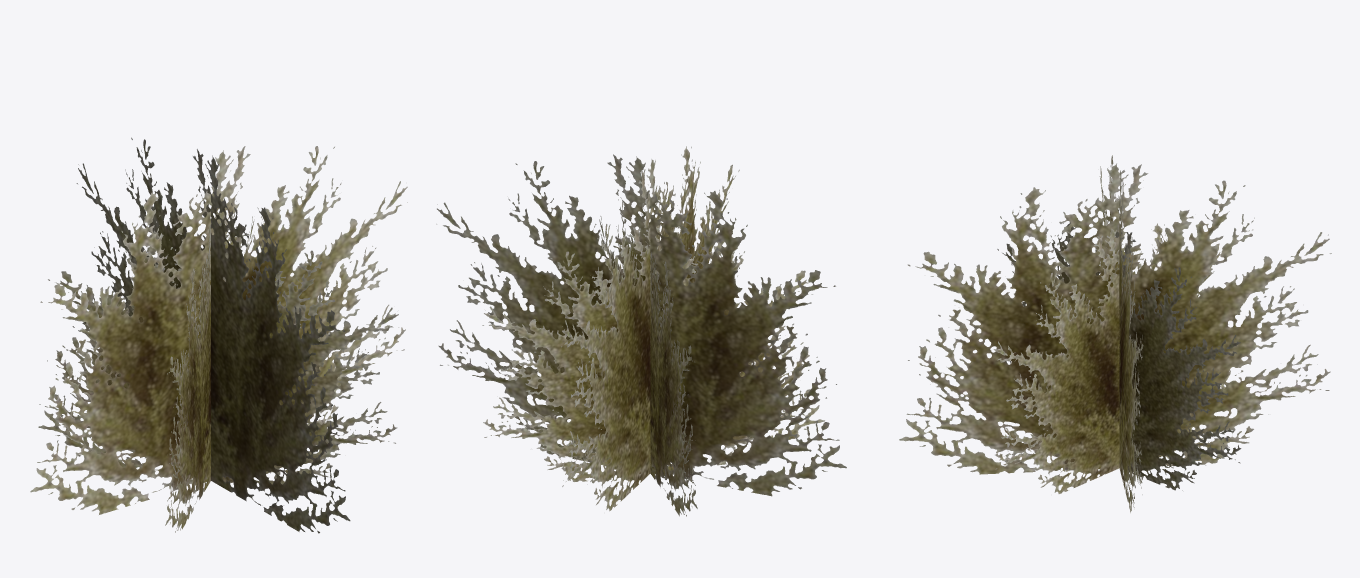
File: bush.glb
The picture shows the model from 3 angles, left to right: view 1: azimuth 30°, elevation 25°; view 2: azimuth 150°, elevation 25°; view 3: azimuth 270°, elevation 25°; orthographic projection. The views are drawn at different scales.
Parts seen in each view (by area): view 1: Mesh_0.001; view 2: Mesh_0.001; view 3: Mesh_0.001.
Part boxes in pixels (x1,y1,x2,y2): Mesh_0.001: (30, 137, 407, 533); Mesh_0.001: (436, 146, 846, 516); Mesh_0.001: (899, 155, 1331, 512).
Bounding box in the file's own units: 1 × 0.8774 × 1.
Materials: 1 (1 with a texture image).
